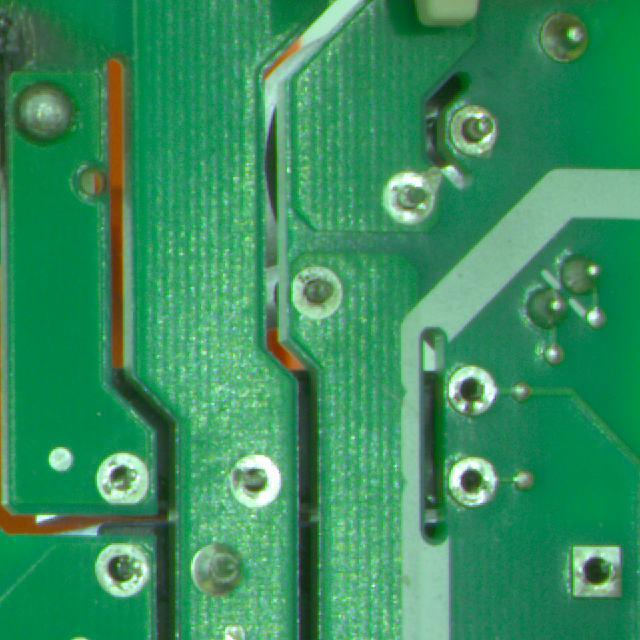low_solder: (96, 544, 150, 597), (228, 451, 280, 505), (96, 453, 148, 504), (448, 365, 499, 416), (571, 545, 621, 597), (450, 105, 497, 156), (293, 274, 346, 316), (390, 183, 429, 221), (456, 463, 489, 507)
